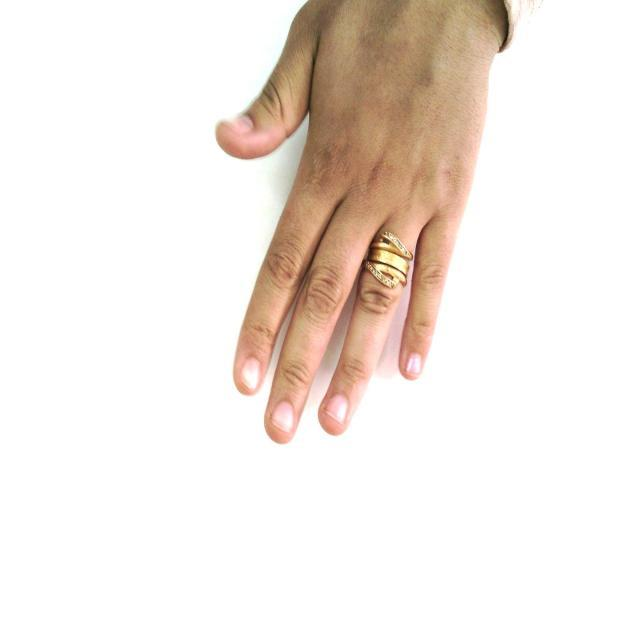Fingernail: (222, 115, 253, 135), (273, 403, 293, 432), (242, 358, 260, 390), (325, 395, 347, 421), (407, 354, 421, 375)
